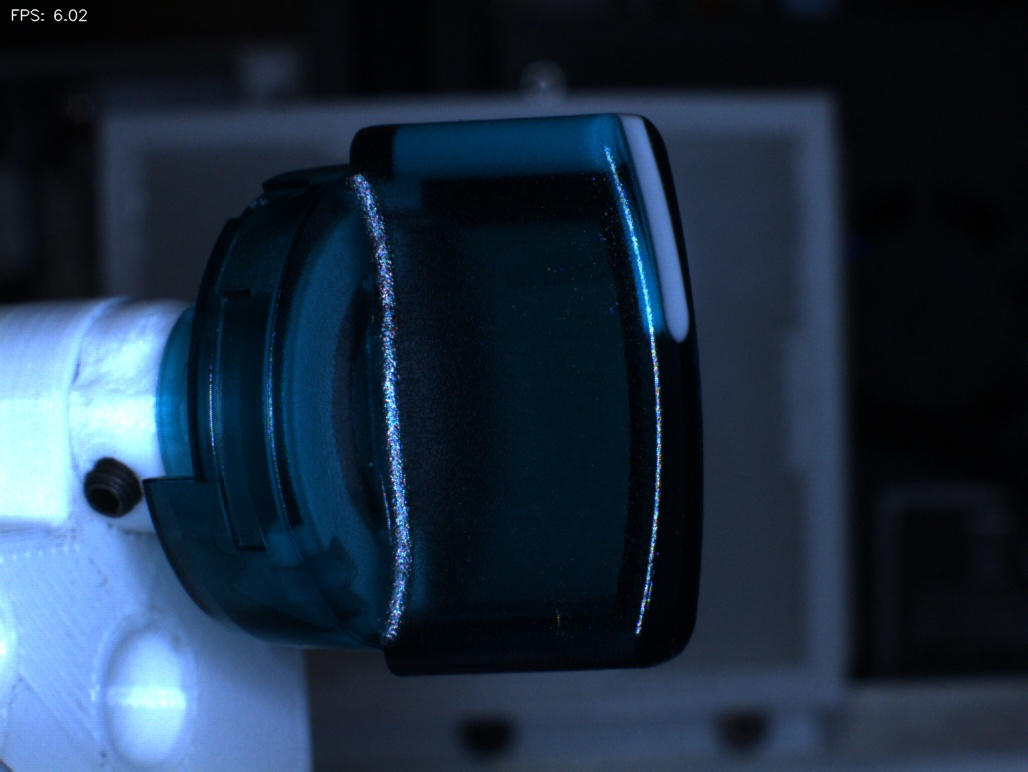Givrage: (523, 584, 591, 657)
